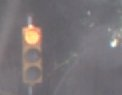Red: (19, 25, 45, 93)
